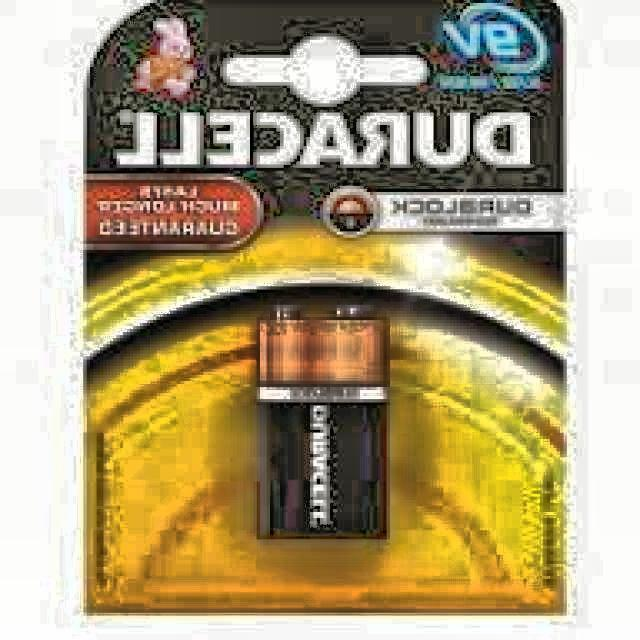battery: (80, 0, 567, 613), (256, 305, 388, 538)
